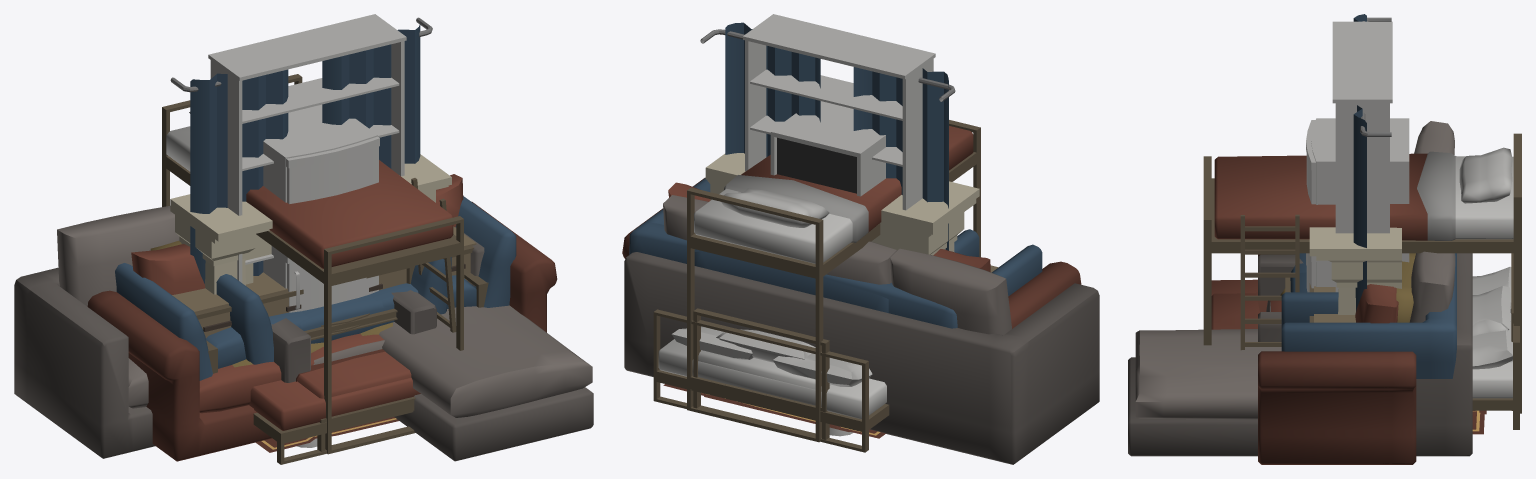
The model's file is interior.glb.
The picture shows the model from 3 angles, left to right: view 1: azimuth 30°, elevation 25°; view 2: azimuth 150°, elevation 25°; view 3: azimuth 270°, elevation 25°; orthographic projection. The views are drawn at different scales.
Visible parts, largest first — view 1: Couch_L, Bed_Bunk, Couch_Large1, Curtains_Double, Bookshelf, Kitchen_Fridge, Couch_Medium1, Fireplace, Bed_King, Couch_Small1, Couch_Small2, Drawer_3 (+4 smaller); view 2: Couch_L, Bed_Bunk, Bookshelf, Curtains_Double, Bed_King, Kitchen_Fridge, Bed_Single, Fireplace, Couch_Medium1, Couch_Small1, Couch_Large1, Carpet_2; view 3: Bed_Bunk, Couch_L, Couch_Large1, Bookshelf, Couch_Medium1, Bed_King, Kitchen_Fridge, Fireplace, Bed_Single, Curtains_Double, Couch_Small2, Couch_Small1 (+2 smaller).
Boxes of the visible parts, x1,y1,x2,y2 form: Couch_L: (14, 206, 593, 461); Bed_Bunk: (162, 74, 463, 454); Couch_Large1: (87, 174, 557, 461); Curtains_Double: (170, 17, 432, 283); Bookshelf: (208, 14, 406, 282); Kitchen_Fridge: (263, 104, 379, 312); Couch_Medium1: (115, 196, 516, 380); Fireplace: (170, 154, 451, 294); Bed_King: (249, 377, 420, 464); Couch_Small1: (216, 257, 451, 364); Couch_Small2: (271, 290, 436, 382); Drawer_3: (172, 226, 476, 337); Couch_L: (624, 195, 1099, 464); Bed_Bunk: (687, 120, 980, 442); Bookshelf: (743, 14, 935, 210); Curtains_Double: (700, 22, 955, 250); Bed_King: (653, 309, 889, 452); Kitchen_Fridge: (770, 101, 885, 196); Bed_Single: (693, 308, 830, 439); Fireplace: (705, 153, 979, 255); Couch_Medium1: (629, 178, 1042, 328); Couch_Small1: (694, 229, 979, 312); Couch_Large1: (622, 177, 1081, 328); Carpet_2: (663, 384, 885, 438); Bed_Bunk: (1203, 133, 1521, 413); Couch_L: (1128, 121, 1472, 456); Couch_Large1: (1258, 254, 1416, 464); Bookshelf: (1332, 21, 1392, 292); Couch_Medium1: (1281, 253, 1456, 378); Bed_King: (1211, 266, 1519, 429); Kitchen_Fridge: (1306, 118, 1409, 292); Fireplace: (1309, 227, 1401, 314); Bed_Single: (1211, 253, 1513, 410); Curtains_Double: (1353, 14, 1391, 311); Couch_Small2: (1258, 254, 1303, 341); Couch_Small1: (1281, 271, 1338, 324).
Size of the model in its own units: 6.04 by 5.24 by 4.95.
